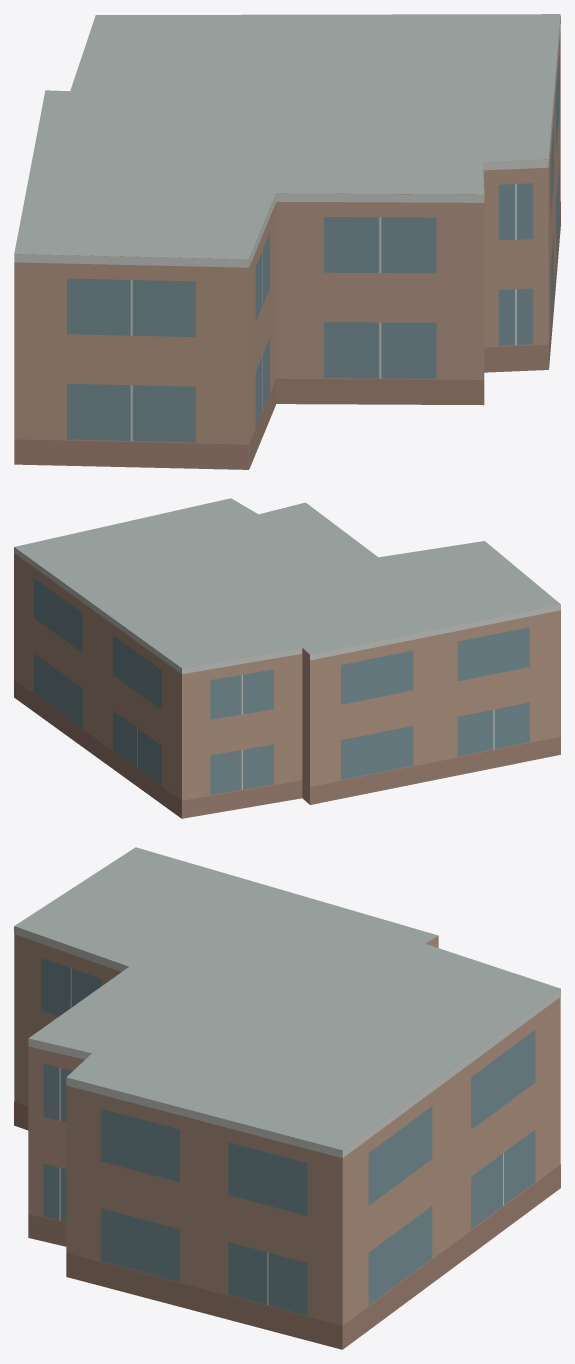
File: survey-upis-32851948.glb
3 renders of one model, top to bottom at view 1: azimuth 30°, elevation 25°; view 2: azimuth 150°, elevation 25°; view 3: azimuth 270°, elevation 25°, orthographic. The views are drawn at different scales.
Visible parts, largest first — view 1: survey-upis-32851948.tmp; view 2: survey-upis-32851948.tmp; view 3: survey-upis-32851948.tmp.
Part boxes in pixels (x1,y1,x2,y2): survey-upis-32851948.tmp: (14, 14, 560, 469); survey-upis-32851948.tmp: (14, 498, 560, 818); survey-upis-32851948.tmp: (14, 847, 560, 1349).
Bounding box in the file's own units: 19.89 × 6.1 × 15.16.
